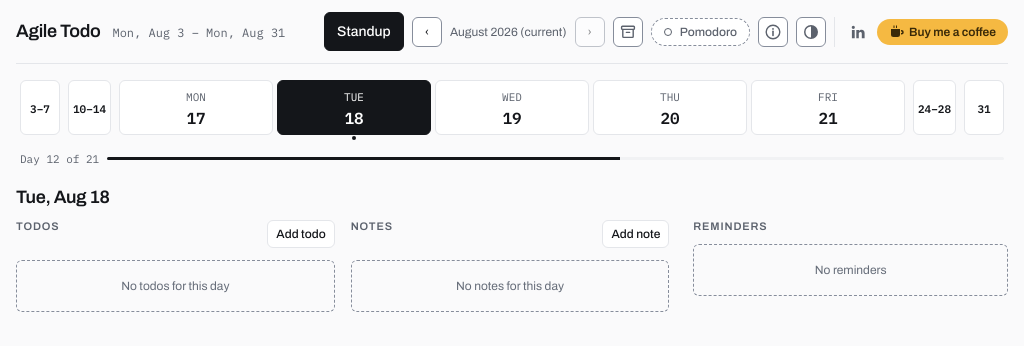
Test: month navigation + history › steps one month back and forward, sorting periods chronologically whatever the array order
Expected: the text "August 2026 (current)" is shown, [450,22,567,40]
Expected: the button named "Next month" is disabled, [575,16,605,46]
Click the button named "Previous month": click(427, 32) [412,16,442,46]
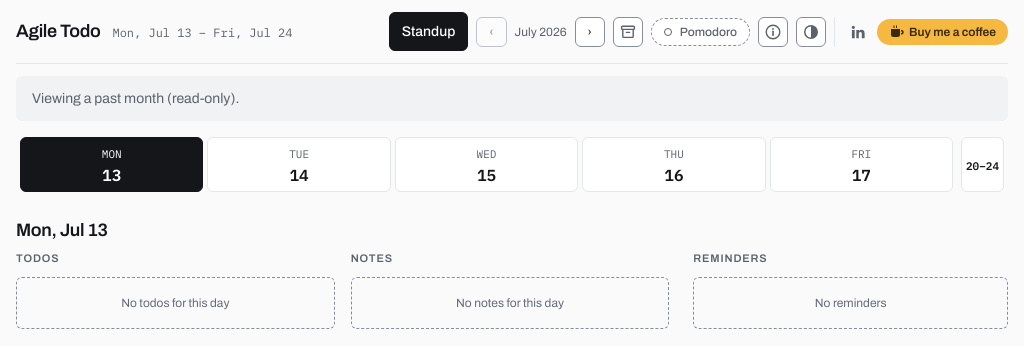
Result: the text "July 2026" is shown at [514,22,567,40]
Result: the text "Viewing a past month (read-only)." is shown at [16,76,1008,121]
Result: the button named "Previous month" is disabled at [476,16,507,46]
Click the button named "Next month": click(590, 32) [575,16,605,46]
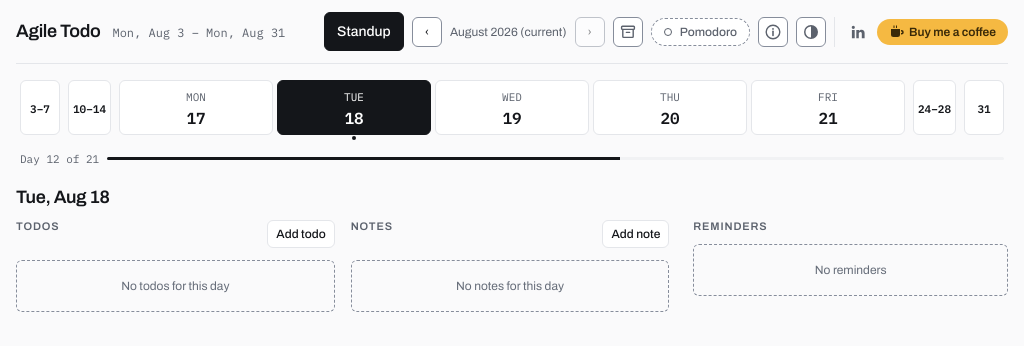
Result: the text "August 2026 (current)" is shown at [450,22,567,40]
Result: the heading "Tue, Aug 18" is shown at [16,187,110,207]
